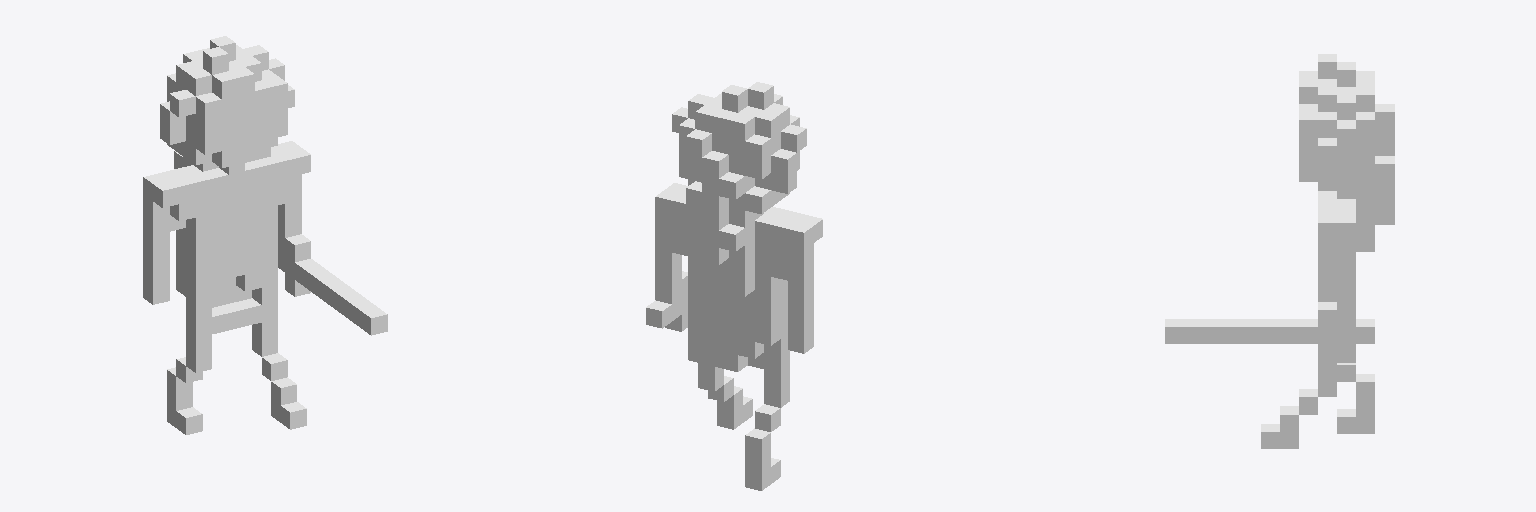
Rendered from SpinningGirlCharacter-3.obj.
3 renders of one model, left to right at view 1: azimuth 30°, elevation 25°; view 2: azimuth 150°, elevation 25°; view 3: azimuth 270°, elevation 25°, orthographic.
Visible parts, largest first — view 1: SpinningGirlCharacter-3; view 2: SpinningGirlCharacter-3; view 3: SpinningGirlCharacter-3.
Part boxes in pixels (x1,y1,x2,y2): SpinningGirlCharacter-3: (143,36,387,434); SpinningGirlCharacter-3: (646,82,822,490); SpinningGirlCharacter-3: (1165,54,1394,448).
Bounding box in the file's own units: 9 × 22 × 12.